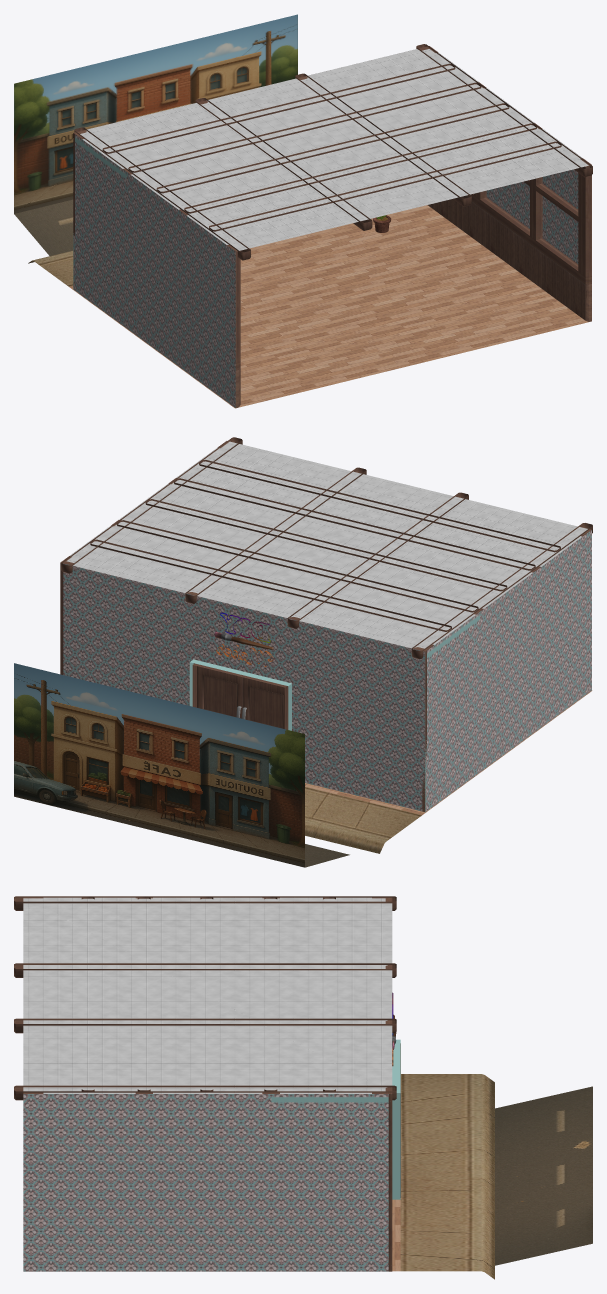
The model's file is All_Store_scene.fbx.
3 renders of one model, top to bottom at view 1: azimuth 30°, elevation 25°; view 2: azimuth 150°, elevation 25°; view 3: azimuth 270°, elevation 25°, orthographic. The views are drawn at different scales.
Visible parts, largest first — view 1: Plane.005, Floor, Wall, Plane, Top Foundation, Side Molding, Wall.001, Side Molding.001; view 2: Plane.005, Front Wall, Plane, Wall, Top Foundation, Floor, Door, Door.001, Front Molding, Brush; view 3: Plane.005, Wall.001, Floor, Plane, Top Foundation, Front Wall, Front Molding.
Part boxes in pixels (x1,y1,x2,y2): Plane.005: [80, 49, 588, 250]; Floor: [28, 205, 588, 408]; Wall: [73, 134, 235, 407]; Plane: [14, 14, 297, 255]; Top Foundation: [74, 44, 592, 260]; Side Molding: [428, 46, 591, 321]; Wall.001: [486, 169, 578, 263]; Side Molding.001: [73, 132, 240, 408]; Plane.005: [66, 441, 587, 648]; Front Wall: [63, 563, 425, 811]; Plane: [14, 663, 349, 867]; Wall: [425, 530, 591, 811]; Top Foundation: [61, 437, 592, 659]; Floor: [305, 690, 592, 853]; Door: [197, 666, 243, 718]; Door.001: [241, 677, 284, 728]; Front Molding: [61, 561, 426, 774]; Brush: [214, 612, 273, 666]; Plane.005: [23, 897, 392, 1093]; Wall.001: [23, 1094, 388, 1271]; Floor: [392, 1074, 494, 1279]; Plane: [495, 1086, 592, 1265]; Top Foundation: [14, 896, 396, 1100]; Front Wall: [392, 1039, 400, 1199]; Front Molding: [385, 898, 400, 1271].
Bounding box in the file's own units: 5012 × 2342 × 6199.
